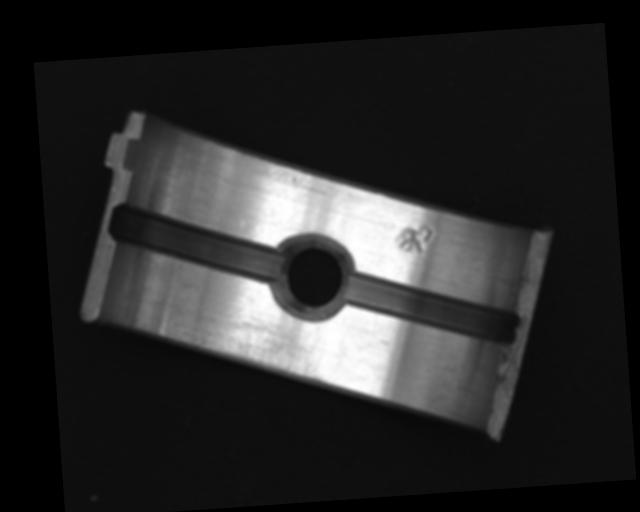bruise: (393, 222, 438, 258)
gap: (106, 192, 289, 293), (346, 262, 521, 354)
hole: (269, 233, 357, 322)
scratch: (178, 316, 336, 396)
